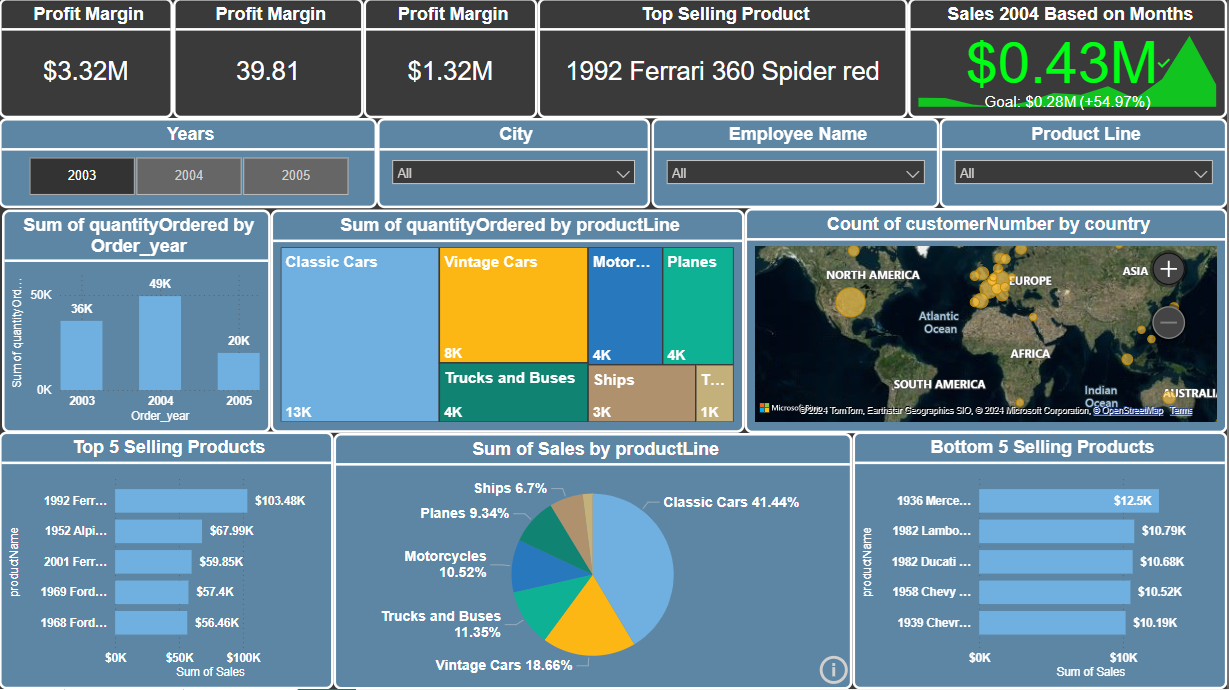

What the dashboard file says about the page in this screenshot:
{"tool":"powerbi","page":{"name":"Page 1","canvas":[1280,720],"ordinal":0},"visuals":[{"type":"card","title":"Profit Margin","fields":{"Values":["Order Details.Total_profit"]},"box":[379.8,0,181.3,125],"z":0},{"type":"card","title":"Top Selling Product","fields":{"Values":["Order Details.MostOrderedProduct"]},"box":[561.1,0,386.1,125],"z":1000},{"type":"barChart","title":"Top 5 Selling Products","fields":{"Category":["Products.productName"],"Y":["Sum(Order Details.Sales)"]},"box":[0,451.7,348.5,268.8],"z":2000},{"type":"pieChart","fields":{"Category":["Product Lines.productLine"],"Y":["Sum(Order Details.Sales)"]},"box":[348.5,453.3,540.8,267.3],"z":3000},{"type":"slicer","title":"Years","fields":{"Values":["Orders.Order_year"]},"box":[0,125,393.9,93.8],"z":4000},{"type":"kpi","title":"Sales 2004 Based on Months","fields":{"Indicator":["Orders.sales_2004"],"Goal":["Orders.sales_2003"],"TrendLine":["Orders.Month Name"]},"box":[947.2,0,332.9,125],"z":5000},{"type":"map","fields":{"Size":["CountNonNull(Customers.customerNumber)"],"Category":["Customers.country"]},"box":[776.8,218.8,503.3,234.4],"z":6000},{"type":"treemap","fields":{"Group":["Products.productLine"],"Values":["Sum(Order Details.quantityOrdered)"]},"box":[282.9,220.4,493.9,232.9],"z":7000},{"type":"columnChart","fields":{"Category":["Orders.Order_year"],"Y":["Sum(Order Details.quantityOrdered)"]},"box":[3.1,220.4,279.8,232.9],"z":8000},{"type":"card","title":"Profit Margin","fields":{"Values":["Order Details.Profit_Margin_%"]},"box":[181.3,0,198.5,125],"z":9000},{"type":"card","title":"Profit Margin","fields":{"Values":["Sum(Order Details.Sales)"]},"box":[0,0,181.3,125],"z":10000},{"type":"slicer","title":"City","fields":{"Values":["Employees.city"]},"box":[393.9,125,284.5,93.8],"z":11000},{"type":"slicer","title":"Employee Name","fields":{"Values":["Employees.EmployeeFullName"]},"box":[679.9,125,300.1,93.8],"z":12000},{"type":"slicer","title":"Product Line","fields":{"Values":["Products.productLine"]},"box":[980,125,300.1,93.8],"z":13000},{"type":"barChart","title":"Bottom 5 Selling Products","fields":{"Category":["Products.productName"],"Y":["Sum(Order Details.Sales)"]},"box":[889.3,451.7,390.7,268.8],"z":14000},{"type":"actionButton","box":[850.3,679.9,39.1,40.6],"z":15000}]}

Visuals, with their boxes in screenshot pixels (x1, y1, x2, y2), scaled from the page's 1280x720 canvas onto the 1229x690 screenshot:
"Profit Margin" card: region(365, 0, 539, 120)
"Top Selling Product" card: region(539, 0, 909, 120)
"Top 5 Selling Products" barChart: region(0, 433, 335, 689)
pieChart - Product Lines.productLine x Sum(Order Details.Sales): region(335, 434, 854, 689)
"Years" slicer: region(0, 120, 378, 210)
"Sales 2004 Based on Months" kpi: region(909, 0, 1228, 120)
map - CountNonNull(Customers.customerNumber) x Customers.country: region(746, 210, 1228, 434)
treemap - Products.productLine x Sum(Order Details.quantityOrdered): region(272, 211, 746, 434)
columnChart - Orders.Order_year x Sum(Order Details.quantityOrdered): region(3, 211, 272, 434)
"Profit Margin" card: region(174, 0, 365, 120)
"Profit Margin" card: region(0, 0, 174, 120)
"City" slicer: region(378, 120, 651, 210)
"Employee Name" slicer: region(653, 120, 941, 210)
"Product Line" slicer: region(941, 120, 1228, 210)
"Bottom 5 Selling Products" barChart: region(854, 433, 1228, 689)
actionButton: region(816, 652, 854, 689)
